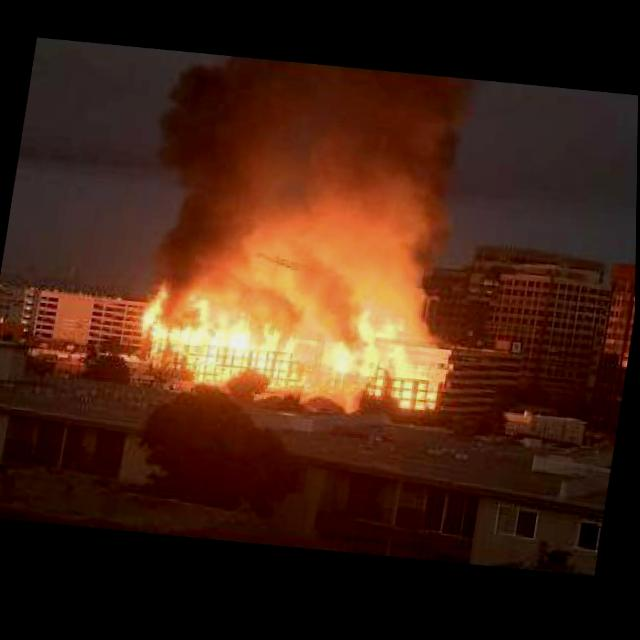Fire: (127, 269, 463, 435)
Smoke: (131, 39, 491, 325)
